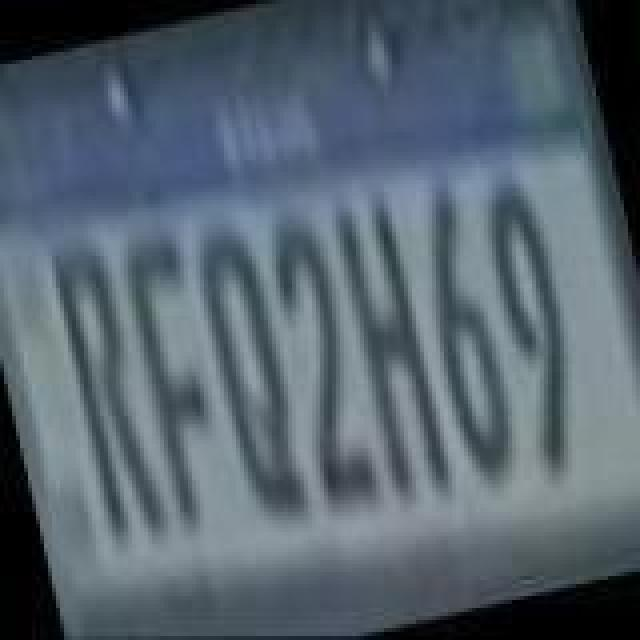2: (260, 206, 388, 510)
6: (398, 178, 530, 490)
9: (470, 172, 602, 484)
F: (112, 222, 240, 526)
H: (326, 190, 458, 510)
Q: (184, 214, 320, 534)
R: (46, 238, 178, 554)
